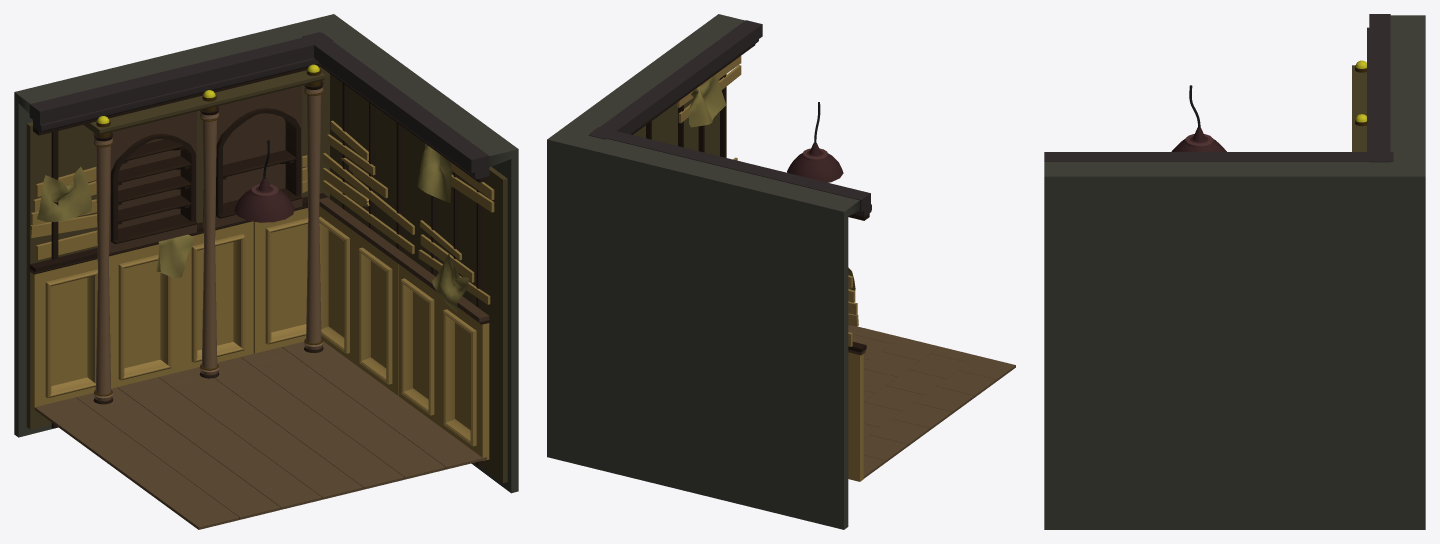
The model's file is HabitacionLaboratorio.fbx.
3 views of the same model, side by side, from view 1: azimuth 30°, elevation 25°; view 2: azimuth 150°, elevation 25°; view 3: azimuth 270°, elevation 25° (orthographic). The views are drawn at different scales.
Visible parts, largest first — view 1: Suelo, Pared_Inf1, Pared_Inf2, Pared, Pared3, Pared2, viga1, Fondo Estanteria2, Viga2, FondoEstanteria, EstrucPared2, tablones2 (+20 smaller); view 2: Pared, Suelo, Viga2, viga1, Pared_Inf1, Pared3, Lampara, EstrucPared2, Papel2, Tablones3; view 3: Pared, Viga2, viga1, Alto_Columnas, Lampara.
Part boxes in pixels (<box>): Suelo: <box>34,341,486,529</box>; Pared_Inf1: <box>29,193,328,410</box>; Pared_Inf2: <box>319,192,489,460</box>; Pared: <box>14,14,518,493</box>; Pared3: <box>330,74,507,483</box>; Pared2: <box>26,67,329,429</box>; viga1: <box>29,32,332,124</box>; Fondo Estanteria2: <box>203,86,302,227</box>; Viga2: <box>302,32,489,173</box>; FondoEstanteria: <box>109,111,196,253</box>; EstrucPared2: <box>319,62,489,466</box>; tablones2: <box>323,120,414,254</box>; Pared: <box>547,14,859,529</box>; Suelo: <box>848,325,1015,478</box>; Viga2: <box>588,20,762,139</box>; viga1: <box>589,127,870,212</box>; Pared_Inf1: <box>848,341,866,481</box>; Pared3: <box>633,74,726,157</box>; Lampara: <box>787,102,843,182</box>; EstrucPared2: <box>629,39,758,157</box>; Papel2: <box>688,74,725,127</box>; Tablones3: <box>677,56,741,123</box>; Pared: <box>1044,15,1425,529</box>; Viga2: <box>1044,152,1393,161</box>; viga1: <box>1369,14,1390,162</box>; Alto_Columnas: <box>1352,65,1366,151</box>; Lampara: <box>1171,85,1226,151</box>.
Size of the model in its own units: 362 by 369 by 360.
